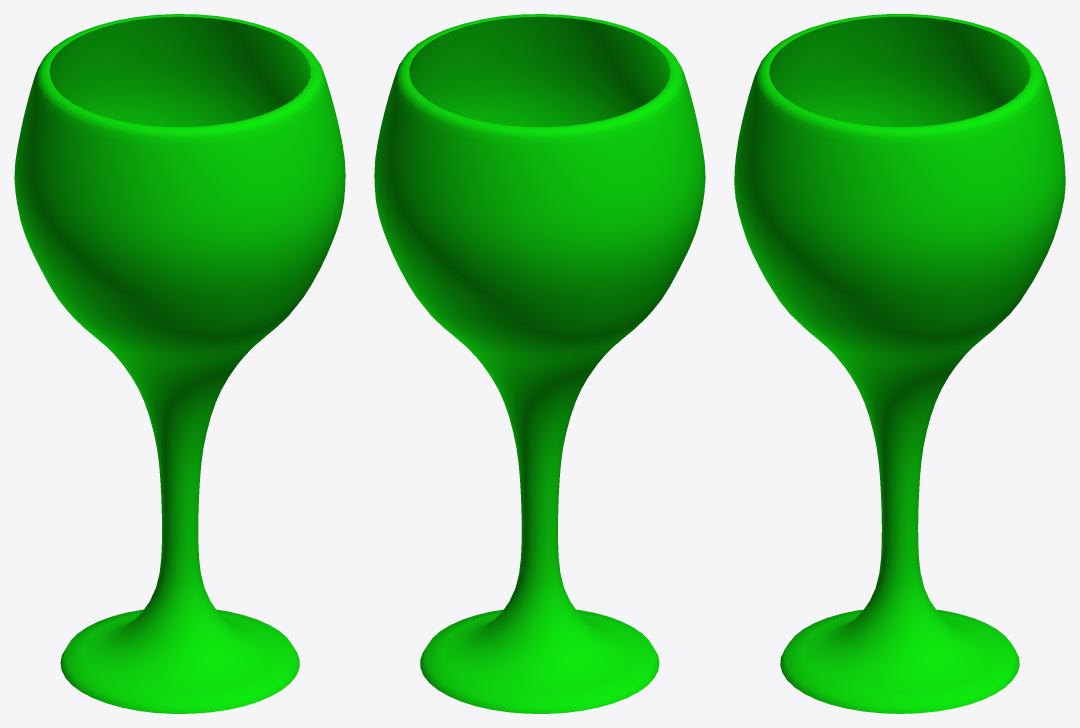
The model's file is Glass1_LOD_0.fbx.
3 views of the same model, side by side, from view 1: azimuth 30°, elevation 25°; view 2: azimuth 150°, elevation 25°; view 3: azimuth 270°, elevation 25° (orthographic).
Parts seen in each view (by area): view 1: Glass1_LOD_0; view 2: Glass1_LOD_0; view 3: Glass1_LOD_0.
Part boxes in pixels (<box>): Glass1_LOD_0: <box>14,14,345,713</box>; Glass1_LOD_0: <box>374,14,705,713</box>; Glass1_LOD_0: <box>734,14,1065,713</box>.
Bounding box in the file's own units: 1.31 × 2.58 × 1.31.
